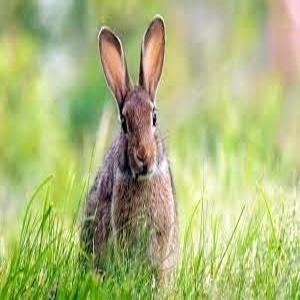rabbit: (84, 14, 177, 279)
